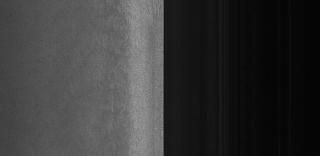silk spot: (101, 27, 143, 106)
